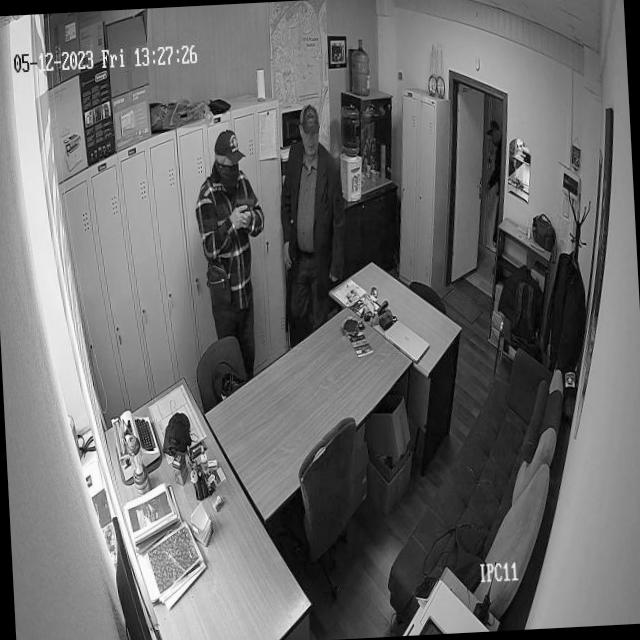gun: (232, 192, 259, 237)
person: (272, 96, 350, 318)
person with a gun: (190, 127, 270, 336)
